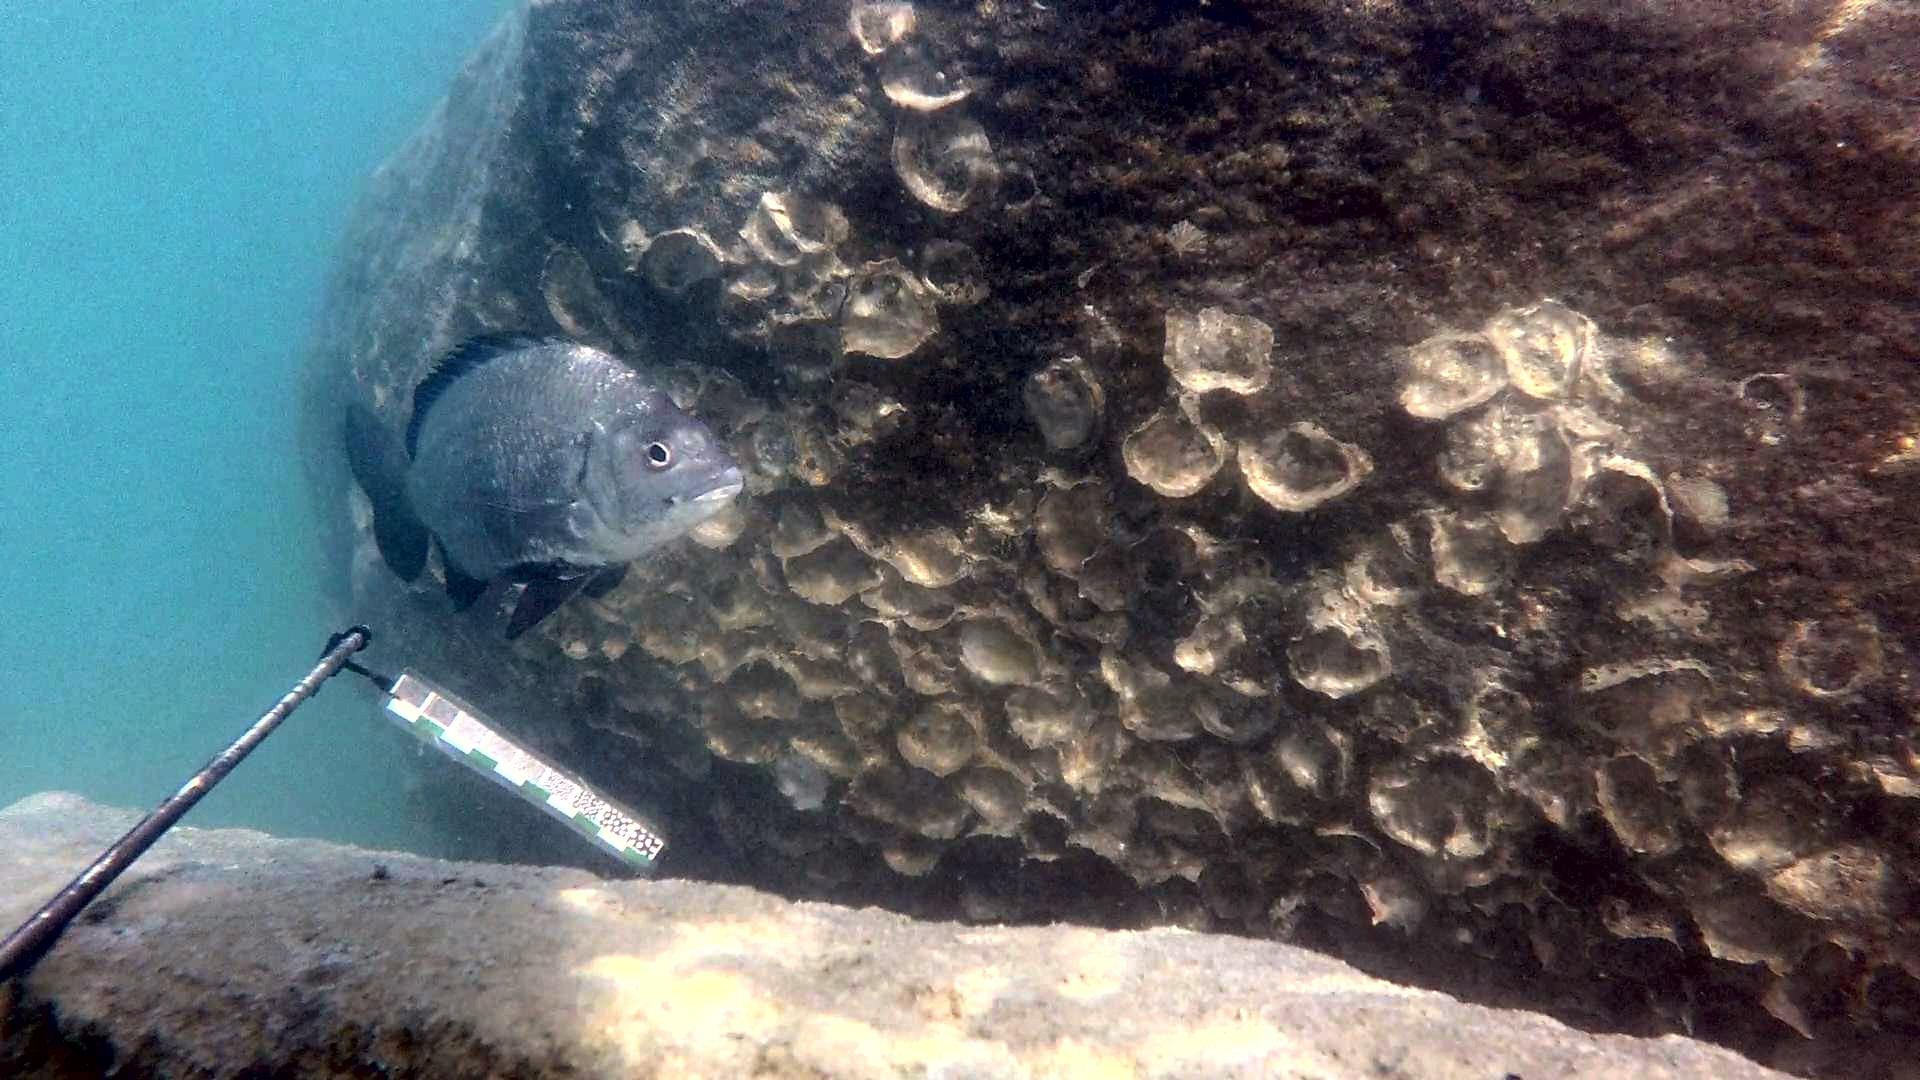acanthopagrus palmaris: (334, 319, 751, 646)
